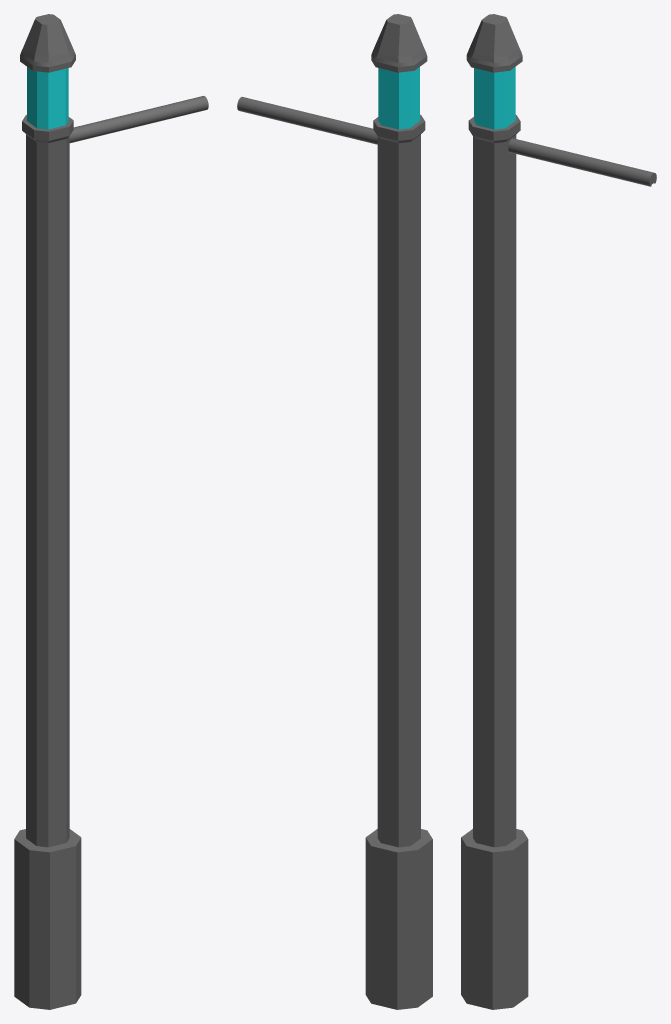
The model's file is StreetLight2.fbx.
3 views of the same model, side by side, from view 1: azimuth 30°, elevation 25°; view 2: azimuth 150°, elevation 25°; view 3: azimuth 330°, elevation 25° (orthographic).
Visible parts, largest first — view 1: Street_Litght_cartel; view 2: Street_Litght_cartel; view 3: Street_Litght_cartel.
Boxes of the visible parts, x1,y1,x2,y2 form: Street_Litght_cartel: [14, 14, 208, 1009]; Street_Litght_cartel: [237, 14, 432, 1009]; Street_Litght_cartel: [461, 14, 656, 1009].
Size of the model in its own units: 77.06 by 391 by 21.84.
